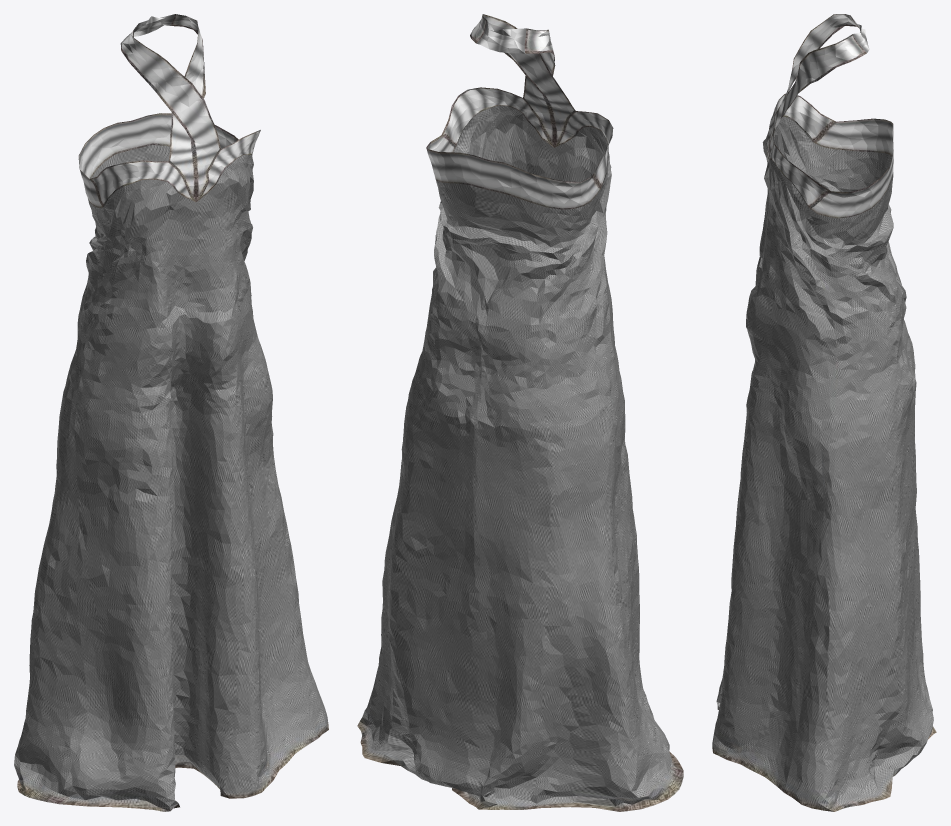
Rendered from mhw_elvs_goddess_dress7.glb.
3 views of the same model, side by side, from view 1: azimuth 30°, elevation 25°; view 2: azimuth 150°, elevation 25°; view 3: azimuth 270°, elevation 25° (orthographic). The views are drawn at different scales.
Parts seen in each view (by area): view 1: mhw_elvs_goddess_dress7; view 2: mhw_elvs_goddess_dress7; view 3: mhw_elvs_goddess_dress7.
Boxes of the visible parts, x1,y1,x2,y2 form: mhw_elvs_goddess_dress7: (14,14,328,811); mhw_elvs_goddess_dress7: (357,14,683,811); mhw_elvs_goddess_dress7: (712,14,936,811).
Bounding box in the file's own units: 0.7019 × 1.62 × 0.4603.
Materials: 1 (1 with a texture image).
